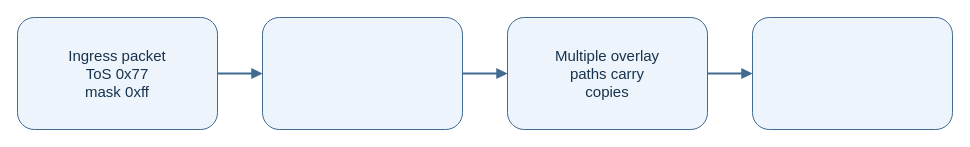
The diagram is 970 pixels wide and 147 high, and some of its shapes have lost their labels. Here are the shapes that lost their labels. From the top down, the box of each, then its label:
(262, 16, 462, 130): Source FortiGate SD-WAN zone replication
(752, 16, 952, 130): Remote FortiGate matching de-dup rule
